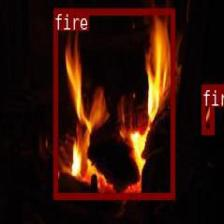fire: (53, 7, 174, 198), (202, 84, 214, 133)
